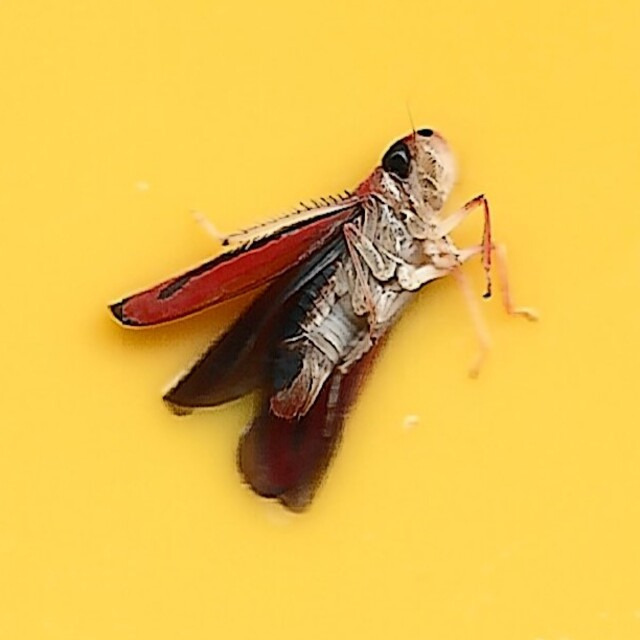Hemiptera: (105, 123, 535, 517)
